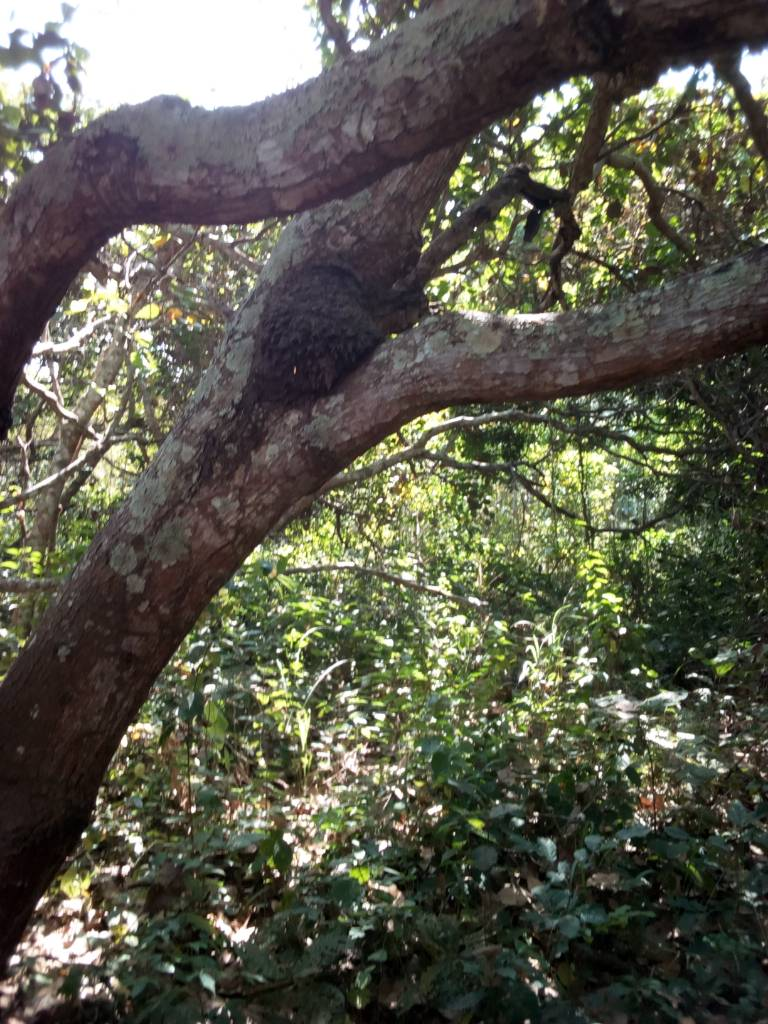Termites: (252, 261, 379, 402)
